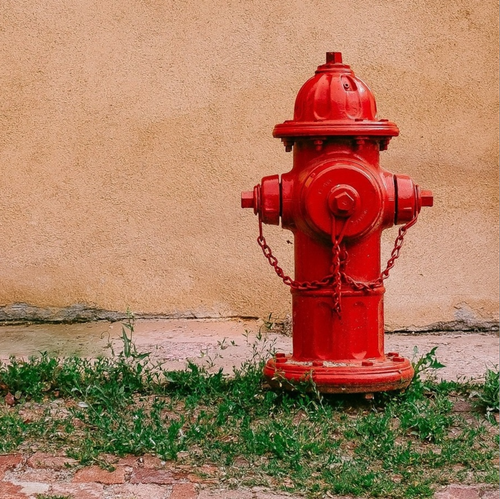firehdyrant: (231, 44, 444, 405)
